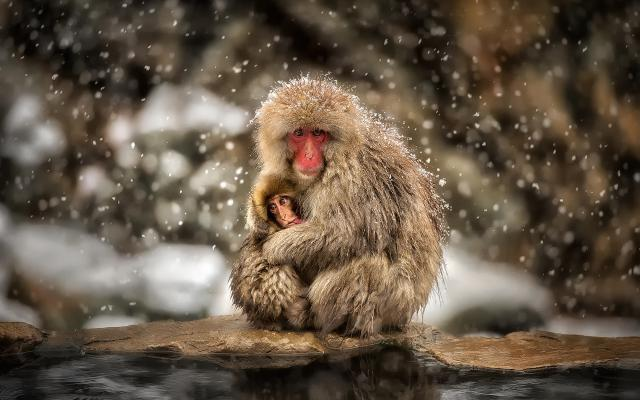monkey: (230, 78, 448, 352)
